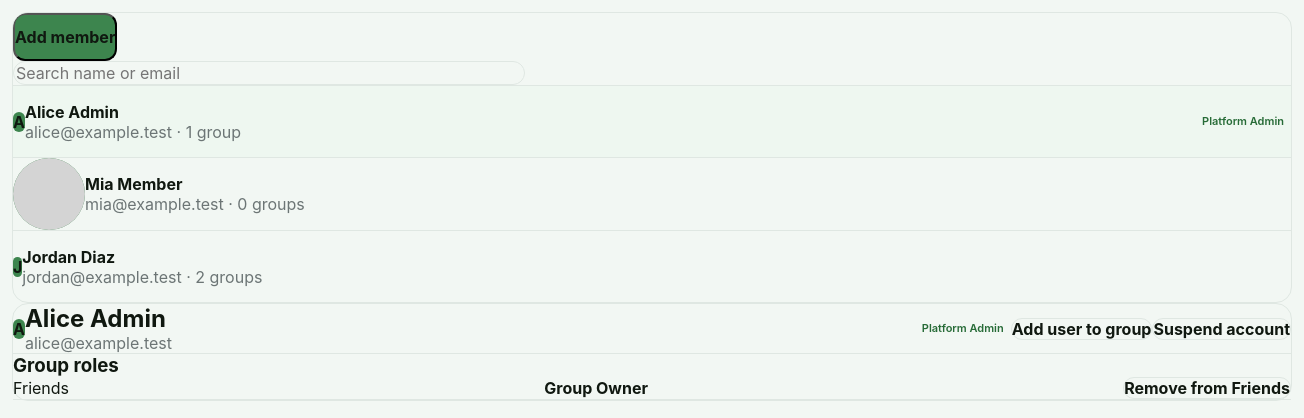
UsersAdminView › filters by email case-insensitively
In the search field named "Search users": (269, 73) [14,62,524,84], type "MIA@"
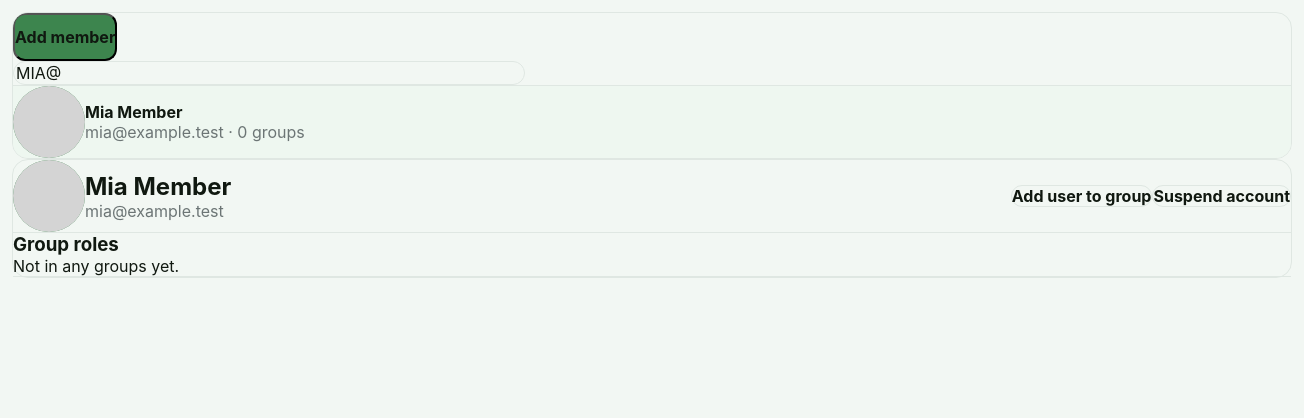
Check: the text "Mia Member" is shown, box [85,102,182,122]
Check: the button "Alice Admin" is gone
